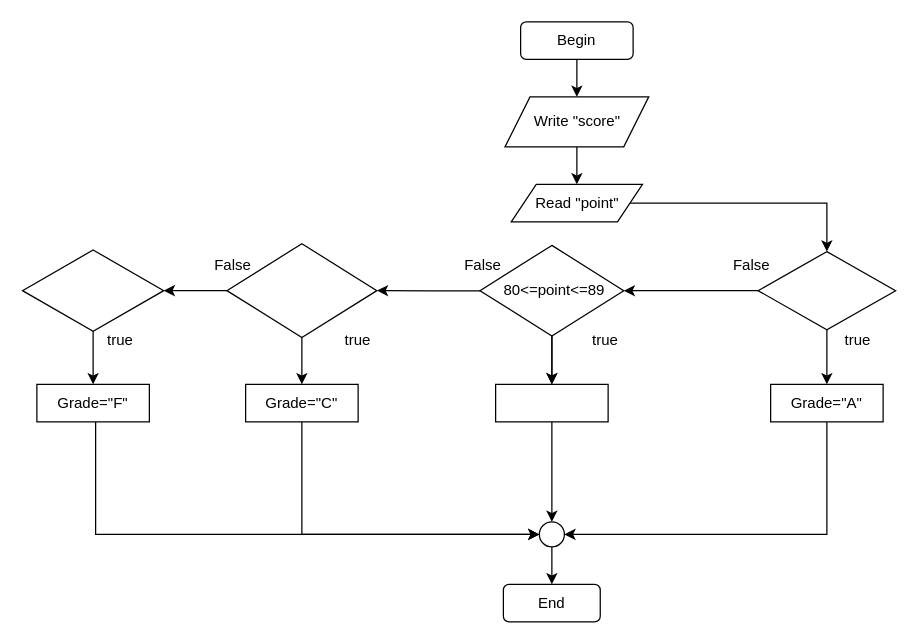
Image size: 918x644. Some labels were removed from this diagram. Here are the shapes that lost their labels. From the top down, the centre of each, then its label:
point (92, 290): point<7
point (301, 290): 70<=point<=79
point (826, 290): point>=90
point (551, 402): Grade="B"
